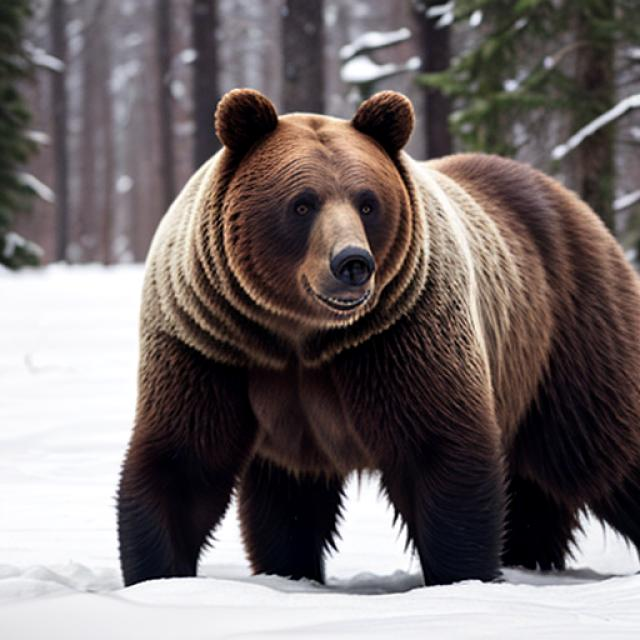bear: (137, 103, 638, 574)
